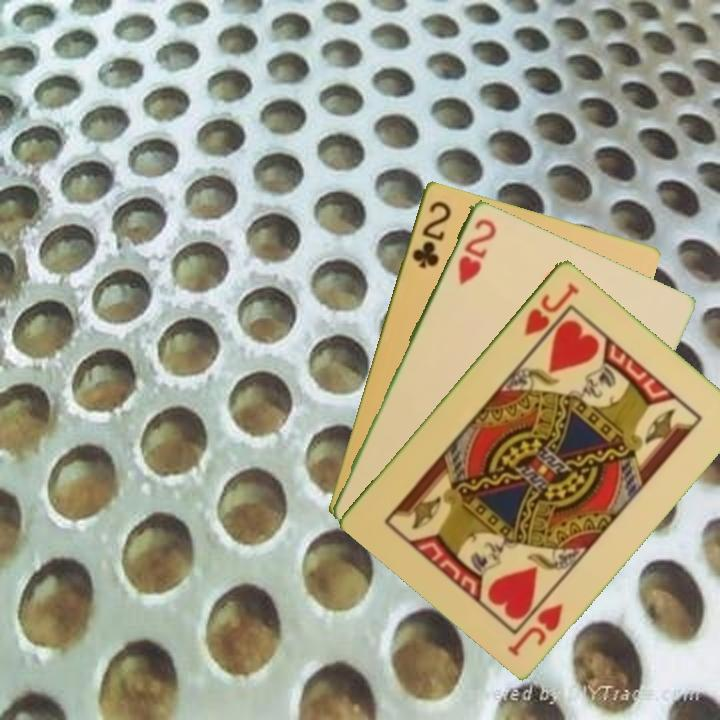2c: (408, 197, 454, 271)
2h: (454, 214, 499, 288)
Jh: (520, 278, 583, 339), (504, 599, 566, 659)
